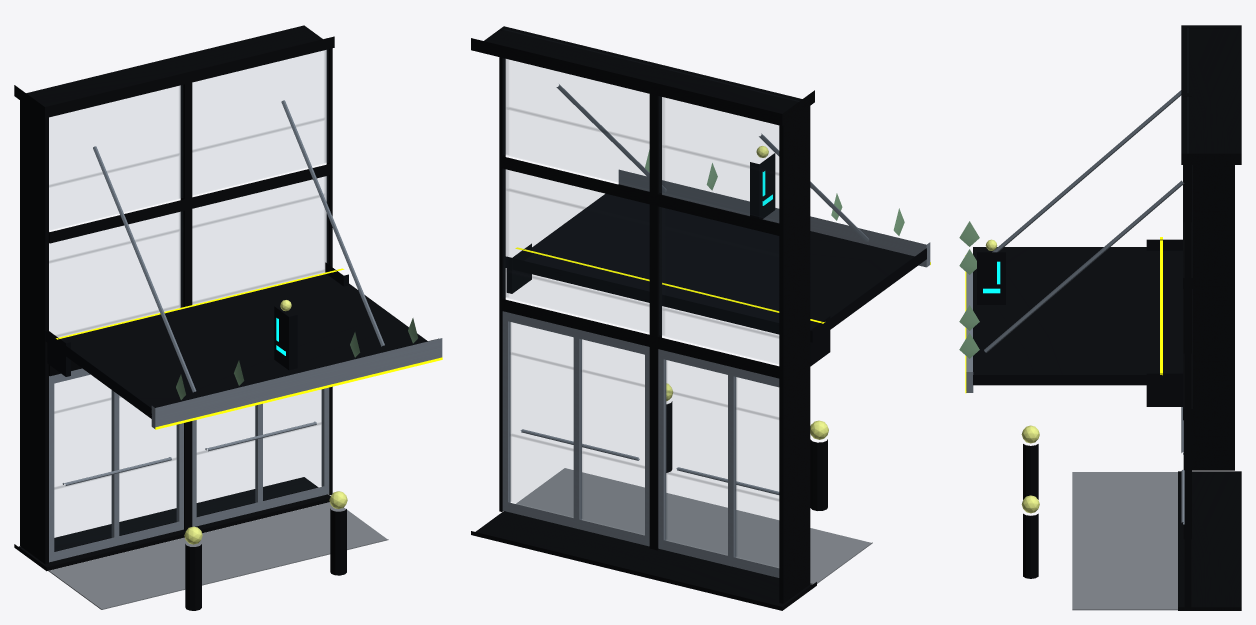
3 views of the same model, side by side, from view 1: azimuth 30°, elevation 25°; view 2: azimuth 150°, elevation 25°; view 3: azimuth 270°, elevation 25° (orthographic). The views are drawn at different scales.
Visible parts, largest first — view 1: Frame, Canopy, Threshold_Mat, Door_Stiles, Canopy_Fascia, Tie_Rods, Ball_Bollards, Court_Line_LED, Glass_Mid_1, Glass_Mid_0, Wayfinding_Blade, Glass_Upper_1 (+5 smaller); view 2: Frame, Canopy, Door_Stiles, Threshold_Mat, Canopy_Fascia, Glass_Mid_1, Glass_Door_1, Glass_Door_0, Ball_Bollards, Glass_Mid_0, Wayfinding_Blade, Tie_Rods (+4 smaller); view 3: Frame, Canopy, Threshold_Mat, Tie_Rods, Ball_Bollards, Wayfinding_Blade, Fascia_Leaf_Crests, Court_Line_LED, Canopy_Fascia, Bollard_Balls.
Part boxes in pixels (<box>): Frame: <box>14,25,334,571</box>; Canopy: <box>45,262,438,418</box>; Threshold_Mat: <box>48,502,388,609</box>; Door_Stiles: <box>49,368,329,562</box>; Canopy_Fascia: <box>151,338,442,428</box>; Tie_Rods: <box>93,100,384,392</box>; Ball_Bollards: <box>185,508,346,610</box>; Court_Line_LED: <box>56,268,442,429</box>; Glass_Mid_1: <box>192,176,328,303</box>; Glass_Mid_0: <box>49,211,182,336</box>; Wayfinding_Blade: <box>274,306,297,370</box>; Glass_Upper_1: <box>192,50,328,162</box>; Frame: <box>471,26,816,610</box>; Canopy: <box>505,184,926,366</box>; Door_Stiles: <box>502,311,779,577</box>; Threshold_Mat: <box>516,468,872,584</box>; Canopy_Fascia: <box>618,169,930,267</box>; Glass_Mid_1: <box>503,169,649,306</box>; Glass_Door_1: <box>509,322,644,518</box>; Glass_Door_0: <box>665,360,778,556</box>; Ball_Bollards: <box>666,401,827,510</box>; Glass_Mid_0: <box>659,207,778,338</box>; Wayfinding_Blade: <box>750,153,775,219</box>; Tie_Rods: <box>556,84,868,241</box>; Frame: <box>1178,25,1241,610</box>; Canopy: <box>973,239,1183,406</box>; Threshold_Mat: <box>1072,472,1177,610</box>; Tie_Rods: <box>984,90,1184,352</box>; Ball_Bollards: <box>1023,444,1038,578</box>; Wayfinding_Blade: <box>977,252,1005,304</box>; Fascia_Leaf_Crests: <box>959,221,979,358</box>; Court_Line_LED: <box>965,237,1162,393</box>; Canopy_Fascia: <box>966,272,973,392</box>; Bollard_Balls: <box>1021,425,1039,513</box>.
Size of the model in its own units: 4 by 6.1 by 3.41.
Materials: 10 (5 with a texture image).
